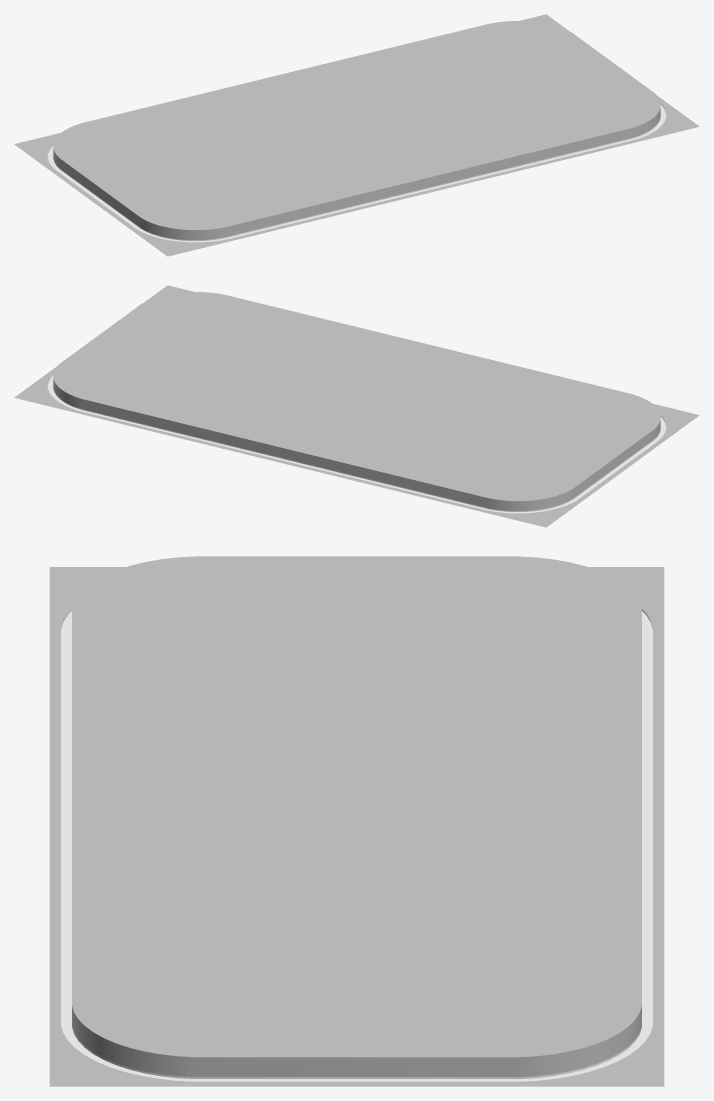
File: Ceiling02_1400x700cm.FBX
3 views of the same model, one above another, from view 1: azimuth 30°, elevation 25°; view 2: azimuth 150°, elevation 25°; view 3: azimuth 270°, elevation 25° (orthographic). The views are drawn at different scales.
Visible parts, largest first — view 1: Ceiling02_1400x700cm; view 2: Ceiling02_1400x700cm; view 3: Ceiling02_1400x700cm.
Boxes of the visible parts, left/top/right/bottom form: Ceiling02_1400x700cm: left=14, top=14, right=699, bottom=256; Ceiling02_1400x700cm: left=14, top=285, right=699, bottom=527; Ceiling02_1400x700cm: left=49, top=556, right=664, bottom=1086.
Bounding box in the file's own units: 1400 × 27.5 × 700.
